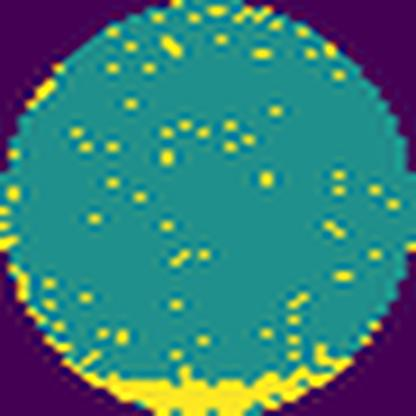Edge-Loc: (80, 351, 366, 416)
